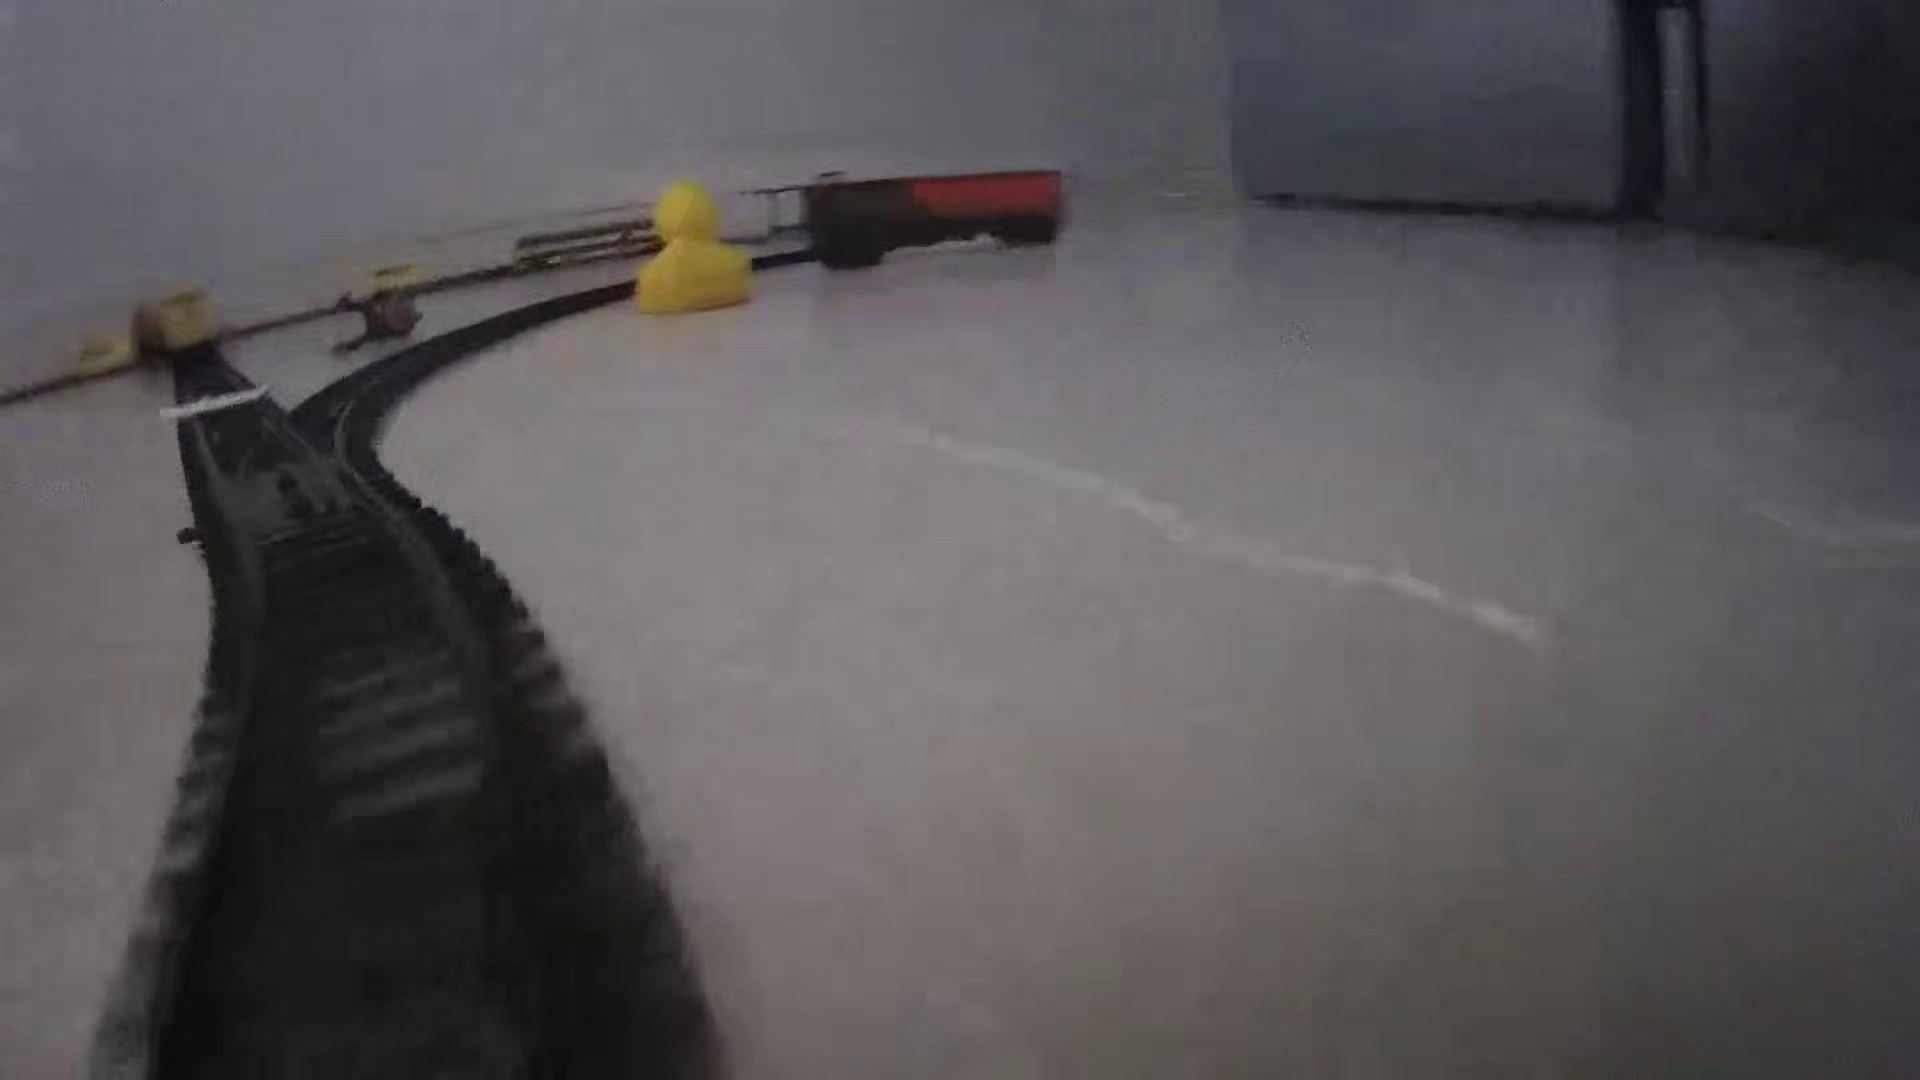people: (323, 280, 426, 363)
web: (155, 376, 273, 419)
